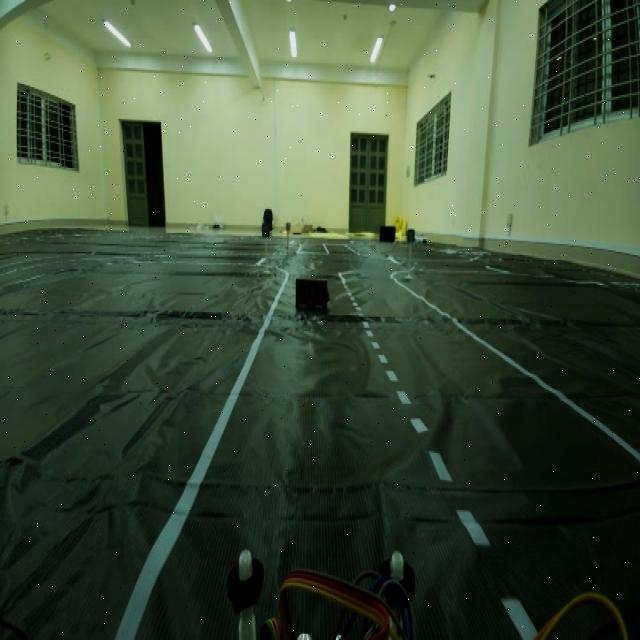roadblock: (289, 272, 336, 322)
